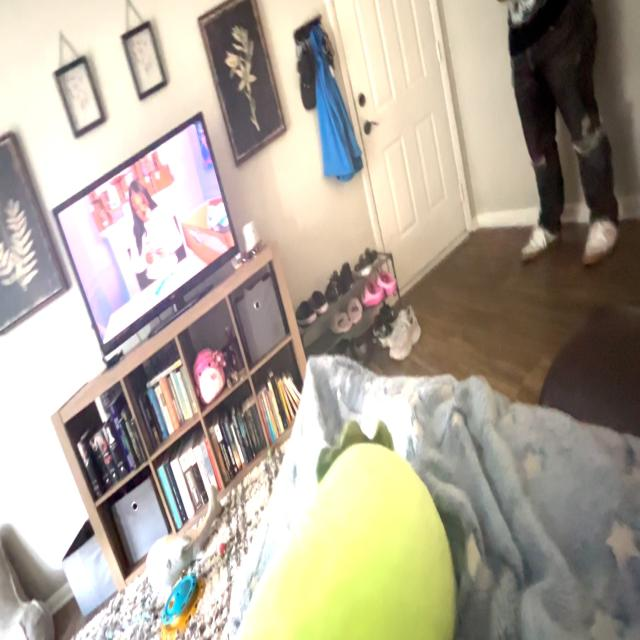drone: (229, 237, 271, 273)
